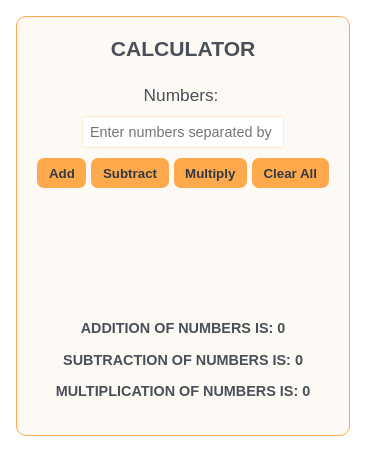
Calculator App › subtraction functionality works correctly
The image size is (367, 453).
Type "5,3" into the field labelled "Numbers:".
click(183, 132); type("5,3")  # box [82, 116, 284, 148]
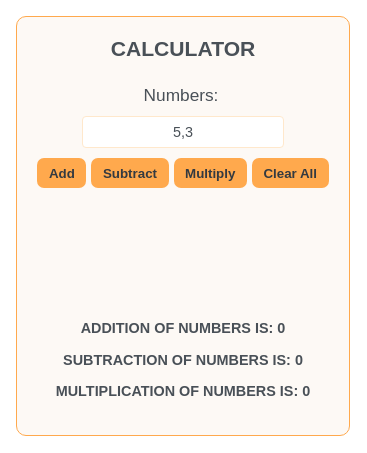
Click the button "Subtract".
click(130, 173)  # box [91, 158, 168, 188]
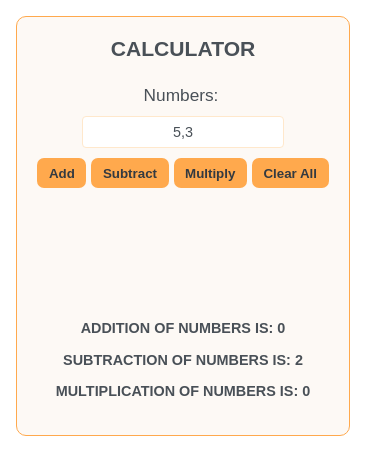
Now the heading "Subtraction of numbers is: 2" is shown, box [63, 352, 303, 368]
